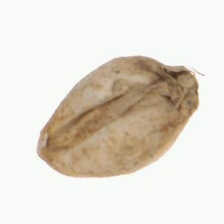L1: (156, 60, 200, 109), (35, 126, 61, 172)
L2: (37, 54, 199, 179)
